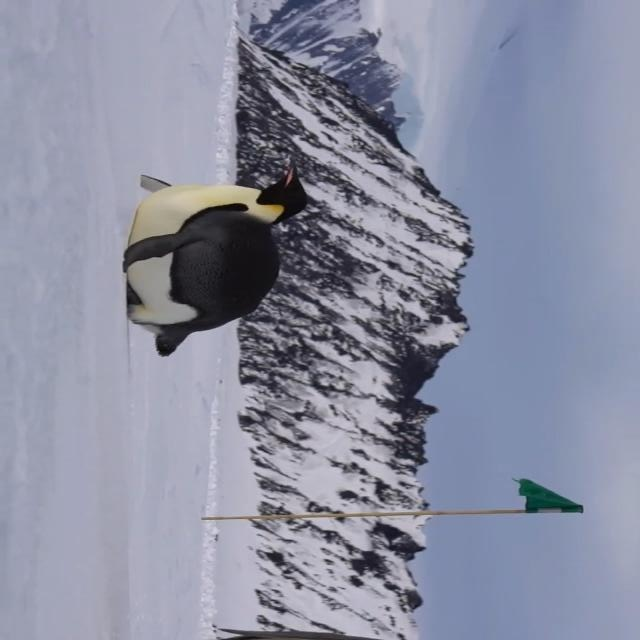penguin: (123, 163, 308, 358)
